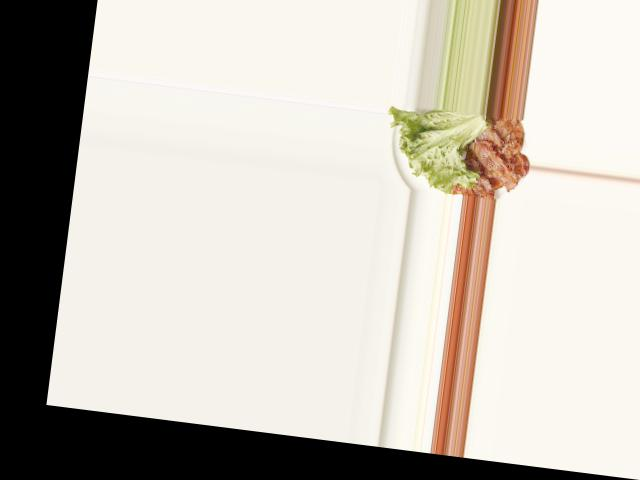lettuce: (384, 102, 486, 195)
